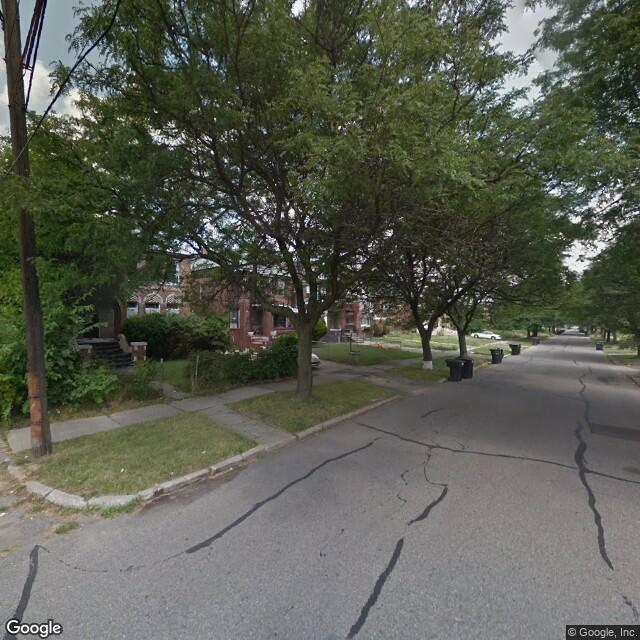litter: (116, 465, 128, 478), (21, 453, 31, 463), (1, 509, 12, 517), (198, 448, 208, 456), (6, 488, 14, 497)
